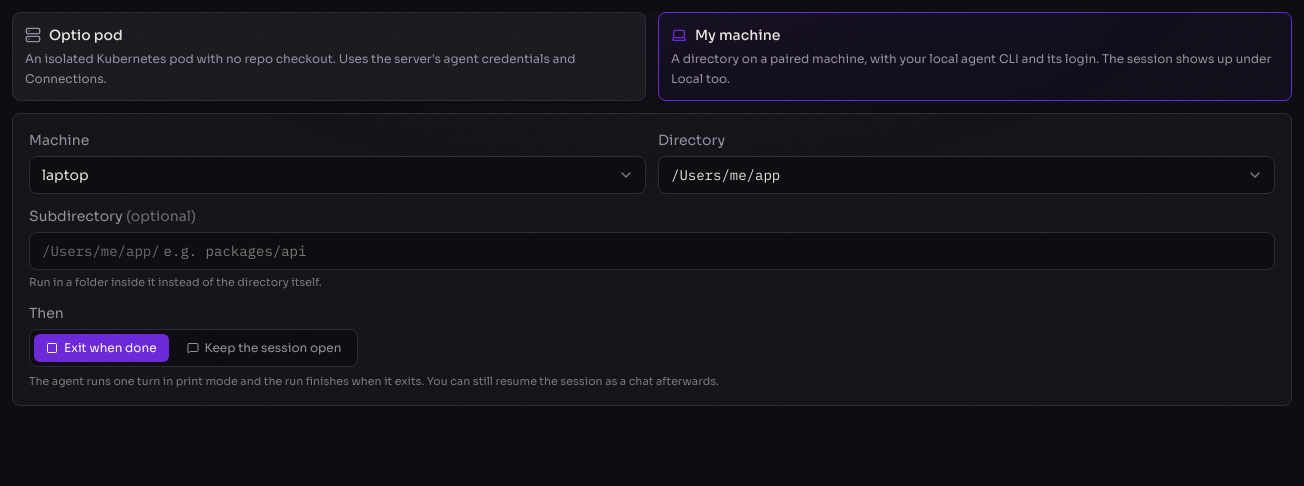
RunLocationPicker on my machine › puts '+ Add a directory…' in the Directory list and opens the form from it
Select "+ Add a directory…" in the 2nd dropdown at (966, 175), box [658,156,1275,194]
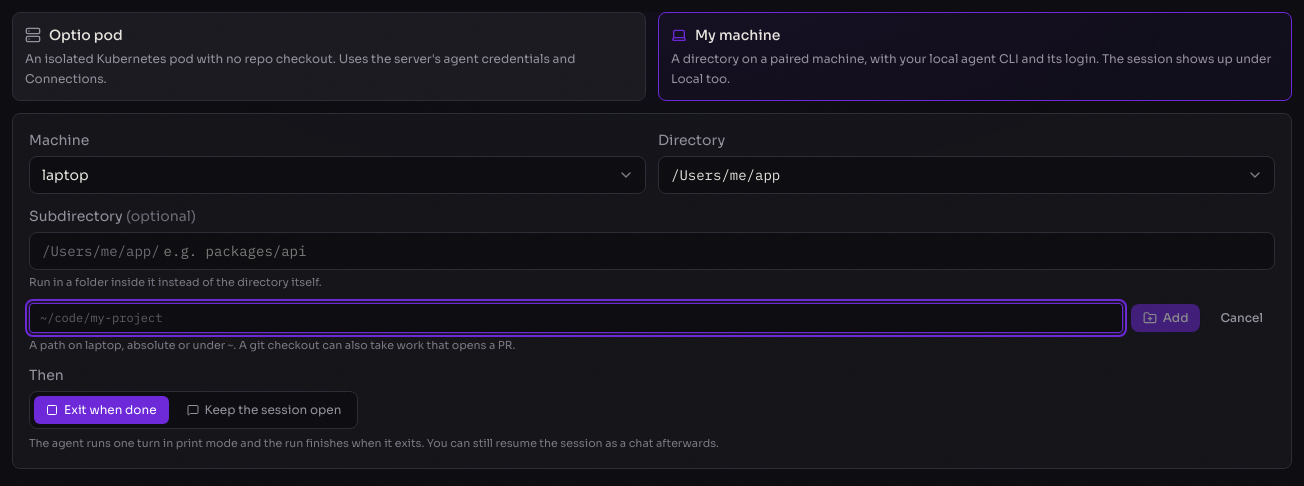
Expected: the field named "Directory on laptop" is shown, [29,302,1123,332]
